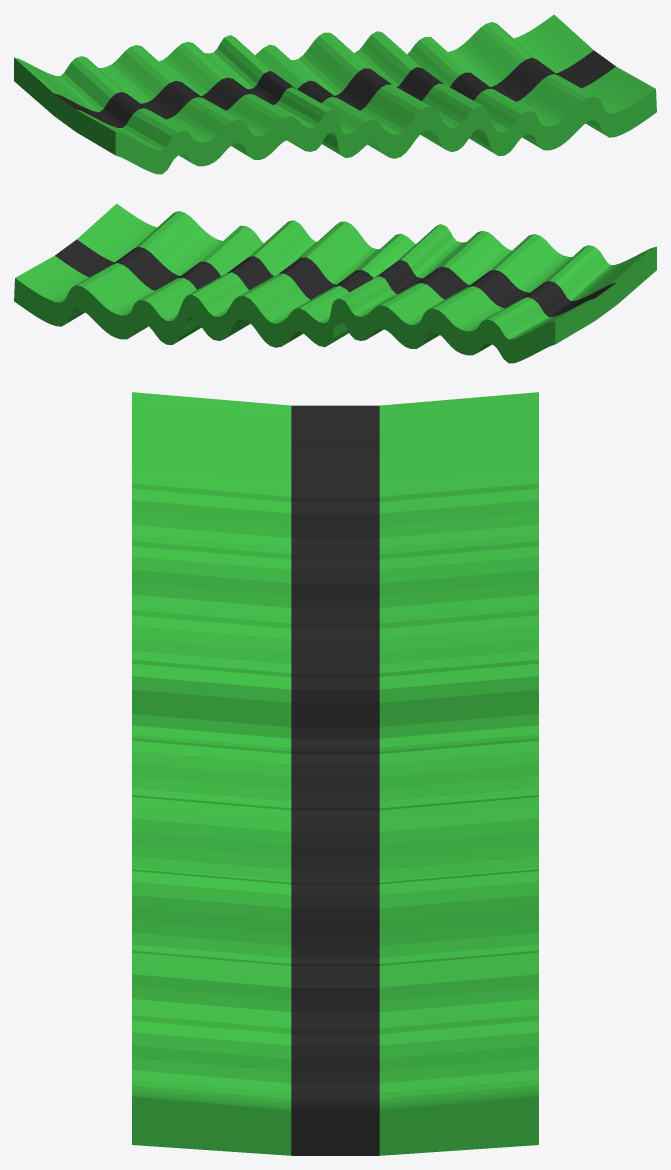
File: road_1.fbx
The picture shows the model from 3 angles, top to bottom: view 1: azimuth 30°, elevation 25°; view 2: azimuth 150°, elevation 25°; view 3: azimuth 270°, elevation 25°; orthographic projection. The views are drawn at different scales.
Parts seen in each view (by area): view 1: Road; view 2: Road; view 3: Road.
Part boxes in pixels (x1,y1,x2,y2): Road: [14, 14, 656, 174]; Road: [14, 203, 656, 363]; Road: [132, 392, 538, 1155].
Size of the model in its own units: 5798 by 4155 by 17801.
